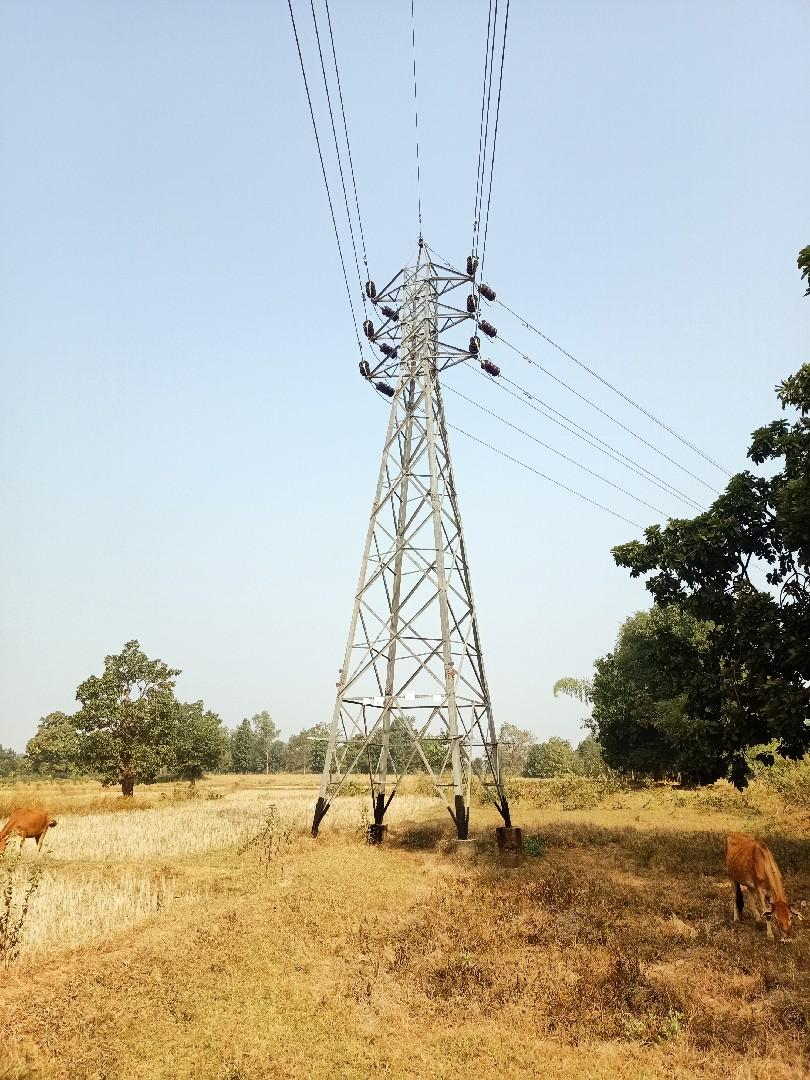GSM Antenna: (304, 236, 522, 824)
